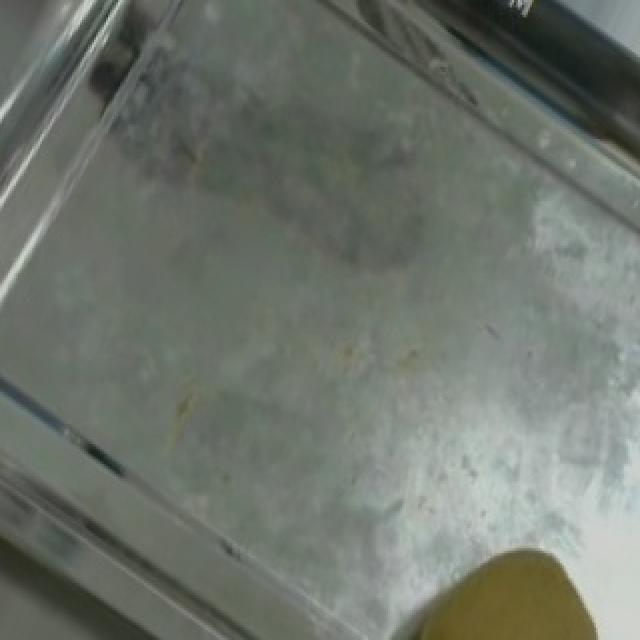Fruit: (382, 526, 634, 640)
